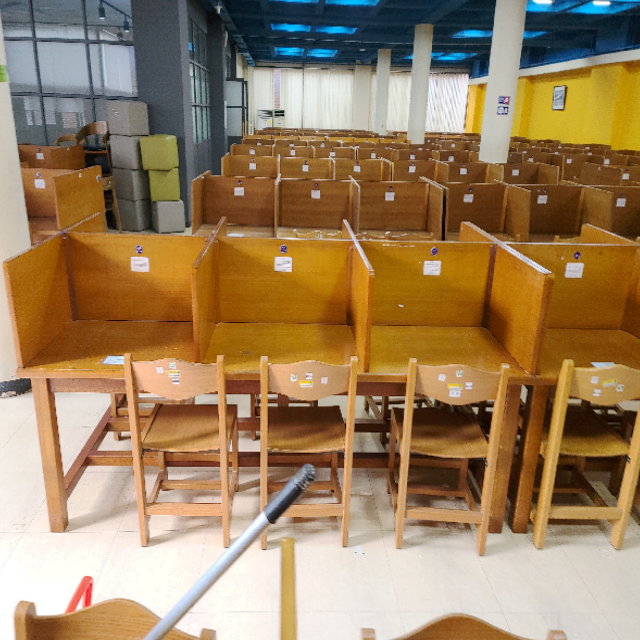empty: (8, 211, 195, 459), (372, 210, 548, 450), (199, 213, 367, 450)
